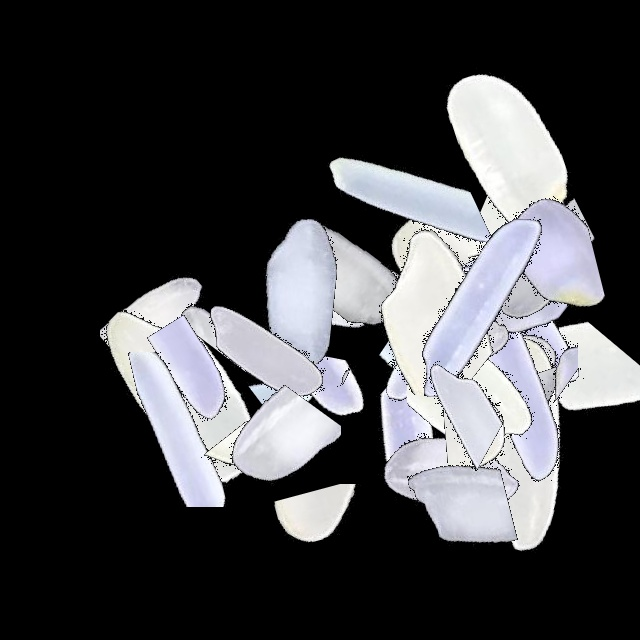Broken: (390, 187, 640, 360), (292, 223, 542, 395), (100, 180, 265, 430), (380, 232, 545, 482), (407, 284, 569, 534), (266, 133, 516, 294), (390, 187, 640, 346), (131, 206, 381, 364), (390, 284, 640, 439), (100, 352, 350, 507), (373, 289, 527, 539), (308, 440, 558, 591), (302, 331, 552, 480), (406, 190, 554, 440), (194, 338, 341, 588), (377, 254, 515, 504), (503, 272, 640, 522), (78, 315, 328, 452), (377, 267, 627, 394), (139, 261, 389, 372), (167, 351, 417, 461), (468, 127, 577, 377), (333, 169, 583, 276), (390, 274, 640, 380), (441, 221, 544, 471), (139, 421, 389, 521), (381, 317, 631, 410), (509, 290, 601, 540), (486, 227, 578, 477), (159, 361, 409, 448), (390, 259, 640, 345), (342, 338, 592, 423), (362, 385, 612, 470), (241, 237, 324, 487), (220, 484, 470, 567), (413, 309, 493, 559)
Full: (390, 188, 640, 438), (390, 177, 640, 427), (370, 242, 620, 492), (332, 138, 582, 388), (57, 263, 307, 513), (387, 28, 637, 278), (210, 160, 460, 410), (220, 152, 470, 402), (390, 316, 640, 566), (140, 225, 390, 475), (390, 264, 640, 514), (326, 349, 576, 599), (364, 165, 614, 415), (358, 184, 608, 434)
